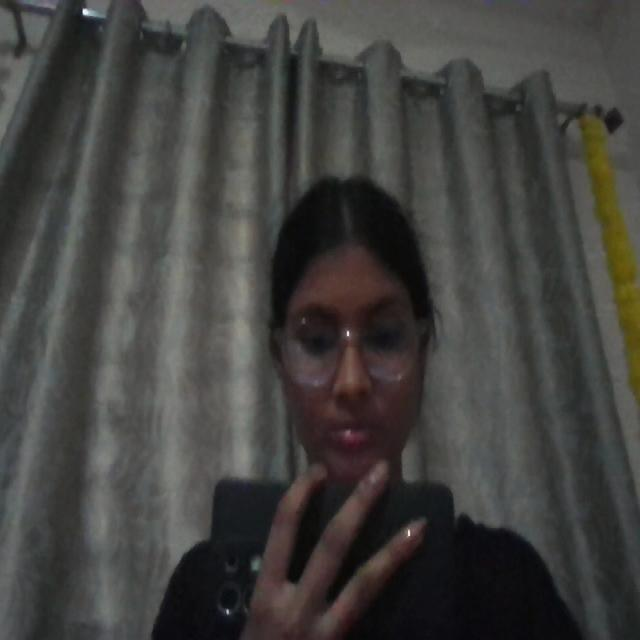phone: (326, 481, 453, 639), (204, 480, 284, 639), (287, 484, 352, 580)
